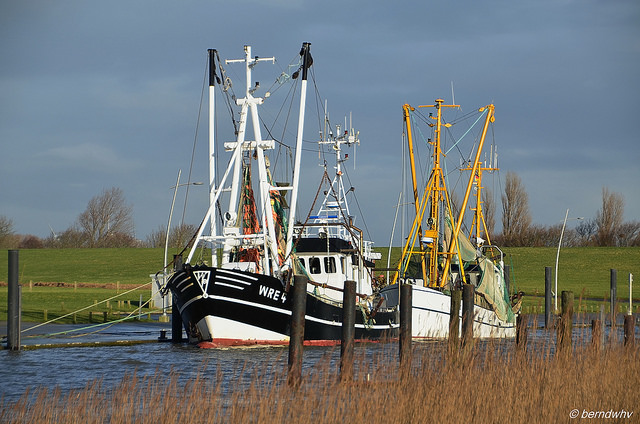fishing_boat: (163, 45, 396, 345), (387, 87, 526, 339)
